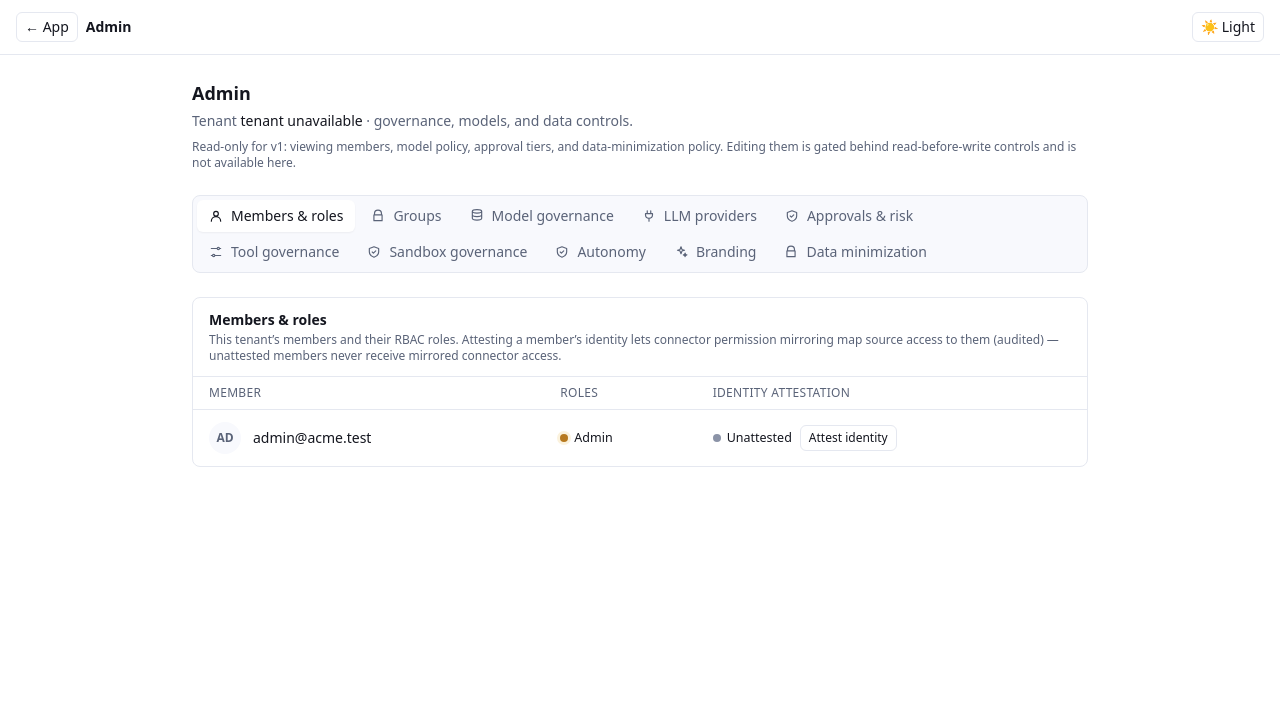
Scenario: AdminPage › surfaces the Tool governance write controls when that tab is active (#223)
Expected: the text "admin@acme.test" is shown, top-left (253, 428), bottom-right (371, 448)
Click the tab "Tool governance".
click(274, 252)  # box top-left (197, 236), bottom-right (351, 268)
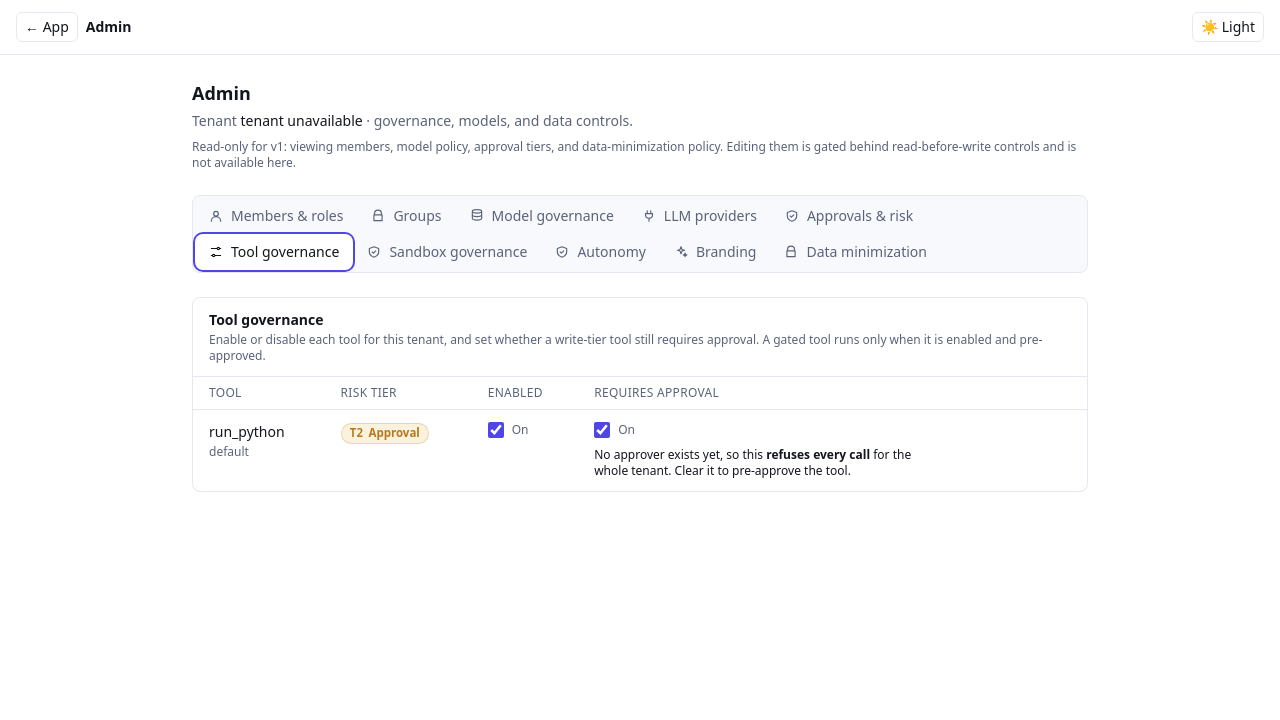
Expected: the text "run_python" is shown, top-left (209, 422), bottom-right (285, 441)
Expected: the 1st switch labelled "On" is shown, top-left (488, 422), bottom-right (504, 438)
